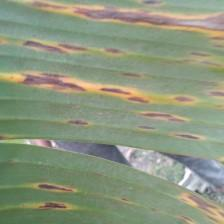sigatoka: (0, 0, 224, 224)
